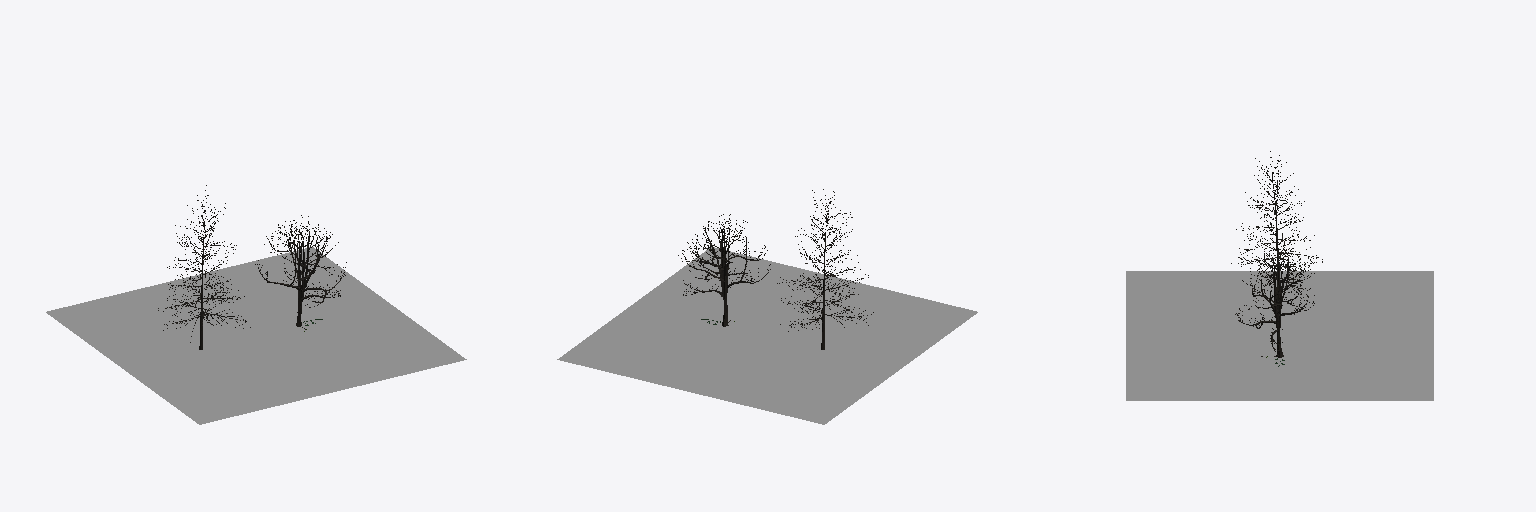
File: Baum3.obj
3 renders of one model, left to right at view 1: azimuth 30°, elevation 25°; view 2: azimuth 150°, elevation 25°; view 3: azimuth 270°, elevation 25°, orthographic.
Parts seen in each view (by area): view 1: Plane_Plane.002, tree.002_Mesh.002, tree_Mesh, tree.001_Mesh.001; view 2: Plane_Plane.002, tree.002_Mesh.002, tree_Mesh; view 3: Plane_Plane.002, tree.002_Mesh.002, tree_Mesh.
Boxes of the visible parts, x1,y1,x2,y2 form: Plane_Plane.002: [46, 247, 466, 424]; tree.002_Mesh.002: [158, 185, 250, 342]; tree_Mesh: [255, 215, 346, 307]; tree.001_Mesh.001: [257, 226, 338, 326]; Plane_Plane.002: [557, 247, 977, 424]; tree.002_Mesh.002: [777, 189, 873, 331]; tree_Mesh: [678, 214, 770, 296]; Plane_Plane.002: [1126, 271, 1433, 400]; tree.002_Mesh.002: [1231, 151, 1322, 300]; tree_Mesh: [1235, 244, 1314, 355].
Bounding box in the file's own units: 40.25 × 24.96 × 40.25.